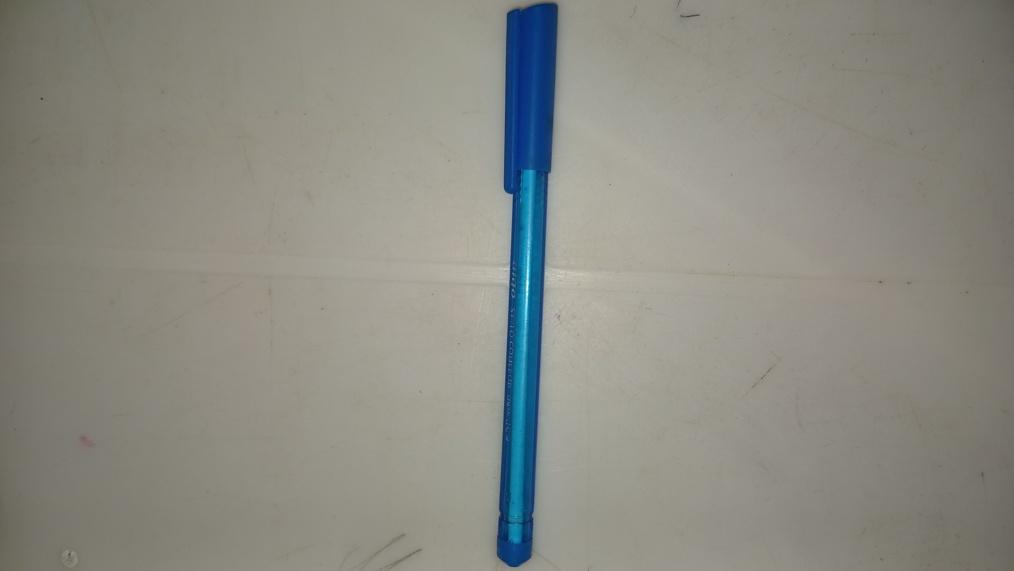pen: (499, 2, 560, 568)
